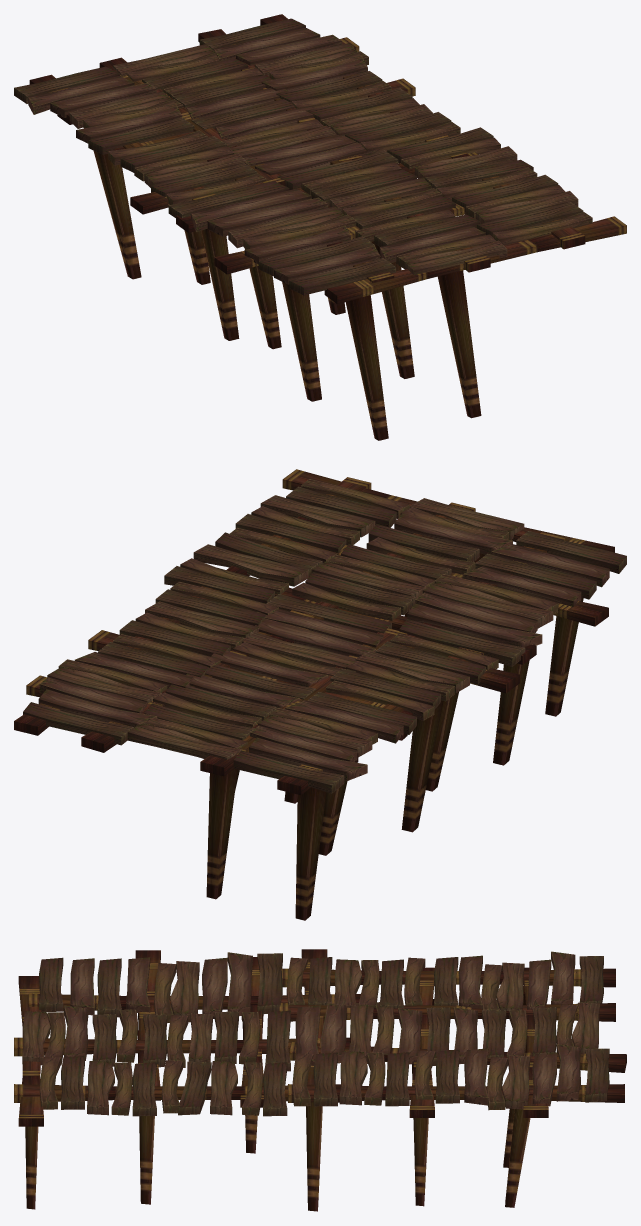
File: environment_Building_luoxiapengdi_001_a.FBX
3 views of the same model, one above another, from view 1: azimuth 30°, elevation 25°; view 2: azimuth 150°, elevation 25°; view 3: azimuth 270°, elevation 25° (orthographic). The views are drawn at different scales.
Visible parts, largest first — view 1: environment_Building_luoxiapengdi_001_a1, environment_Building_luoxiapengdi_001_a2; view 2: environment_Building_luoxiapengdi_001_a1, environment_Building_luoxiapengdi_001_a2; view 3: environment_Building_luoxiapengdi_001_a1, environment_Building_luoxiapengdi_001_a2.
Part boxes in pixels (<box>): environment_Building_luoxiapengdi_001_a1: <box>14,18,592,295</box>; environment_Building_luoxiapengdi_001_a2: <box>29,14,626,440</box>; environment_Building_luoxiapengdi_001_a1: <box>23,478,626,793</box>; environment_Building_luoxiapengdi_001_a2: <box>14,469,614,920</box>; environment_Building_luoxiapengdi_001_a1: <box>22,951,609,1116</box>; environment_Building_luoxiapengdi_001_a2: <box>14,949,626,1211</box>.
Size of the model in its own units: 2415 by 3704 by 1172.
